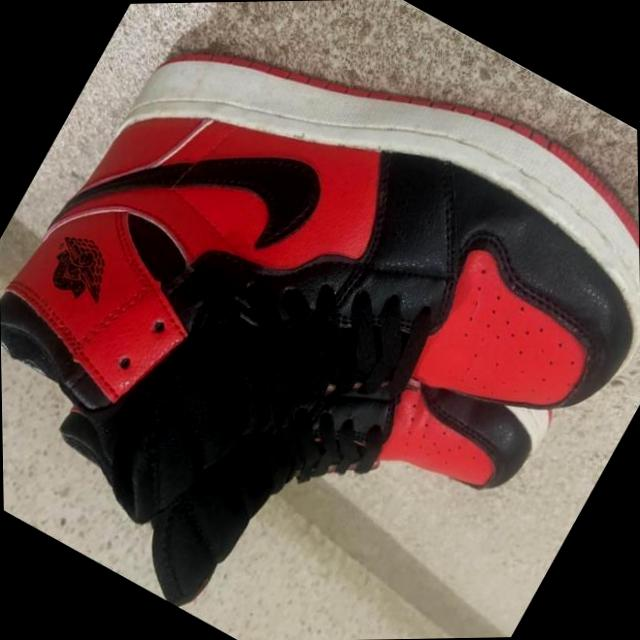nike_fake_jordan: (0, 0, 640, 640), (1, 192, 561, 640)
